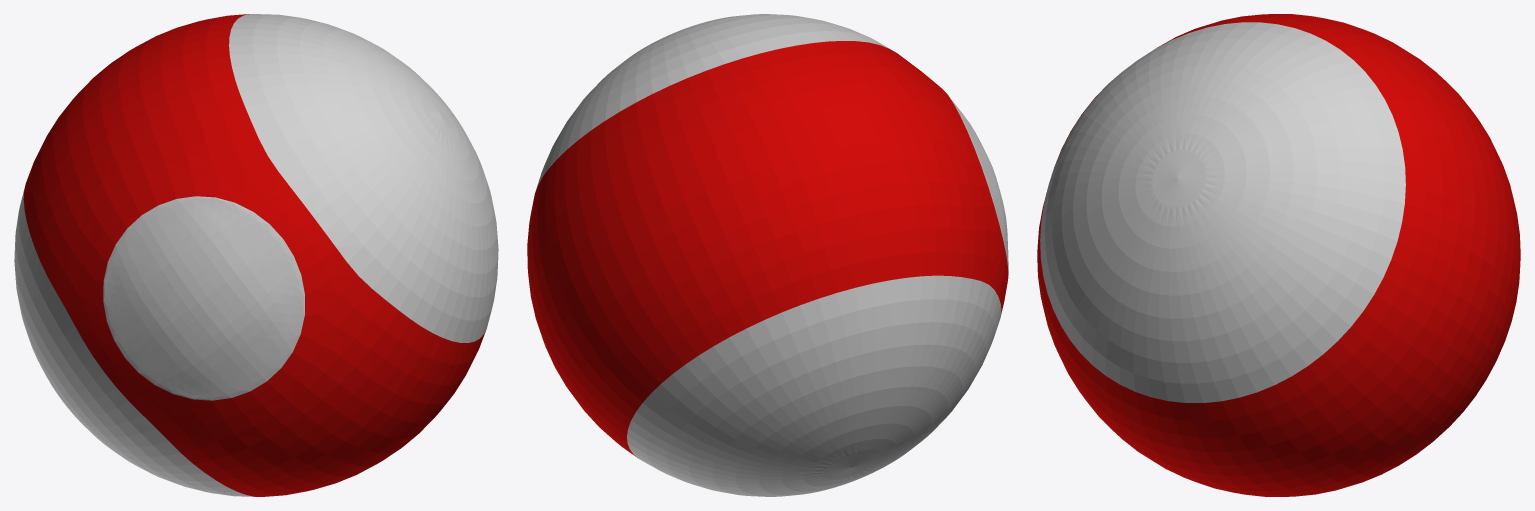
Rendered from 11_ball.obj.
The picture shows the model from 3 angles, left to right: view 1: azimuth 30°, elevation 25°; view 2: azimuth 150°, elevation 25°; view 3: azimuth 270°, elevation 25°; orthographic projection.
Visible parts, largest first — view 1: Stripe.005; view 2: Stripe.005; view 3: Stripe.005.
Part boxes in pixels (left/top/right/bottom): Stripe.005: left=14, top=14, right=498, bottom=496; Stripe.005: left=527, top=14, right=1008, bottom=496; Stripe.005: left=1037, top=14, right=1520, bottom=496.
Size of the model in its own units: 0.0788 by 0.0788 by 0.0786.
